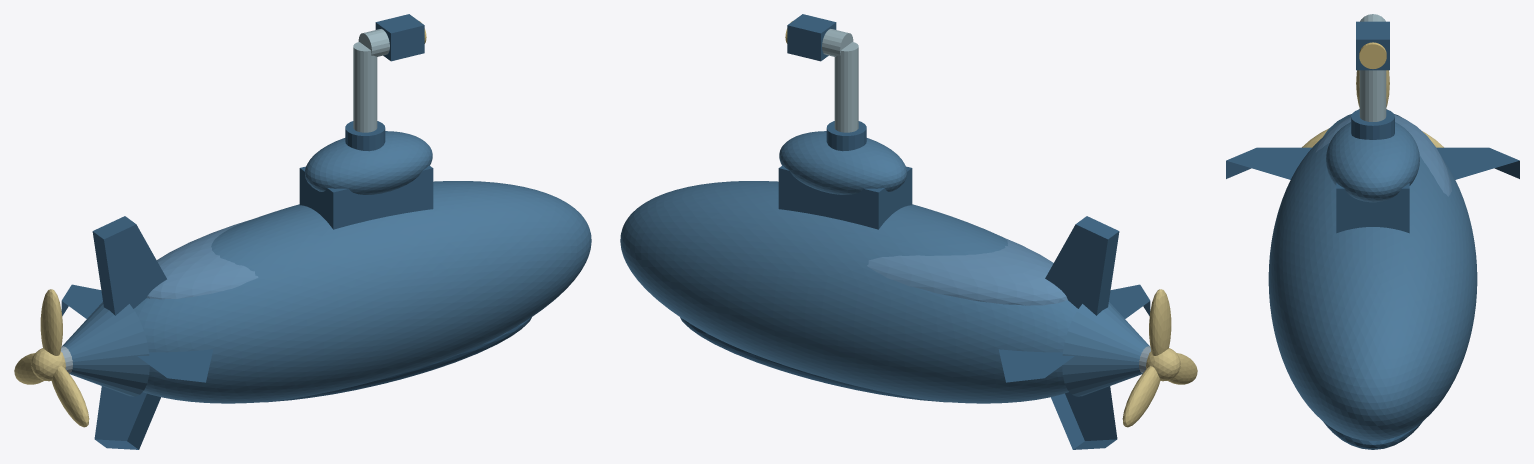
The model's file is cartoon_submarine_animated.glb.
3 views of the same model, side by side, from view 1: azimuth 30°, elevation 25°; view 2: azimuth 150°, elevation 25°; view 3: azimuth 270°, elevation 25° (orthographic). The views are drawn at different scales.
Visible parts, largest first — view 1: hull, sail_top, tail_taper, upper_tail_fin, sail_lower, upper_highlight, lower_tail_fin, tail_side_fins, MOVING_periscope_stem, MOVING_periscope_head, bottom_keel, propeller_blade_0 (+4 smaller); view 2: hull, upper_highlight, sail_top, tail_taper, upper_tail_fin, sail_lower, lower_tail_fin, tail_side_fins, MOVING_periscope_stem, MOVING_periscope_head, bottom_keel, propeller_blade_0 (+4 smaller); view 3: hull, sail_top, tail_side_fins, sail_lower, upper_highlight, MOVING_periscope_stem, MOVING_periscope_head, periscope_mount, bottom_keel, MOVING_lens.
Boxes of the visible parts, x1,y1,x2,y2 form: hull: [133, 181, 591, 403]; sail_top: [305, 131, 432, 194]; tail_taper: [62, 302, 149, 396]; upper_tail_fin: [92, 216, 166, 315]; sail_lower: [299, 165, 433, 229]; upper_highlight: [147, 219, 258, 299]; lower_tail_fin: [94, 386, 160, 449]; tail_side_fins: [61, 284, 213, 382]; MOVING_periscope_stem: [353, 42, 377, 132]; MOVING_periscope_head: [375, 14, 424, 61]; bottom_keel: [259, 317, 531, 402]; propeller_blade_0: [40, 289, 62, 355]; hull: [620, 181, 1078, 403]; upper_highlight: [867, 238, 1067, 305]; sail_top: [779, 131, 906, 194]; tail_taper: [1062, 302, 1149, 396]; upper_tail_fin: [1045, 216, 1119, 315]; sail_lower: [778, 165, 912, 229]; lower_tail_fin: [1051, 386, 1117, 449]; tail_side_fins: [998, 284, 1150, 382]; MOVING_periscope_stem: [834, 42, 858, 132]; MOVING_periscope_head: [787, 14, 836, 61]; bottom_keel: [680, 317, 952, 402]; propeller_blade_0: [1149, 289, 1171, 355]; hull: [1268, 136, 1477, 440]; sail_top: [1326, 122, 1419, 202]; tail_side_fins: [1226, 147, 1519, 179]; sail_lower: [1336, 183, 1409, 233]; upper_highlight: [1315, 114, 1451, 196]; MOVING_periscope_stem: [1359, 70, 1386, 121]; MOVING_periscope_head: [1356, 21, 1389, 70]; periscope_mount: [1351, 109, 1394, 139]; bottom_keel: [1323, 421, 1422, 449]; MOVING_lens: [1359, 42, 1386, 68].
Bounding box in the file's own units: 4.77 × 2.94 × 2.
